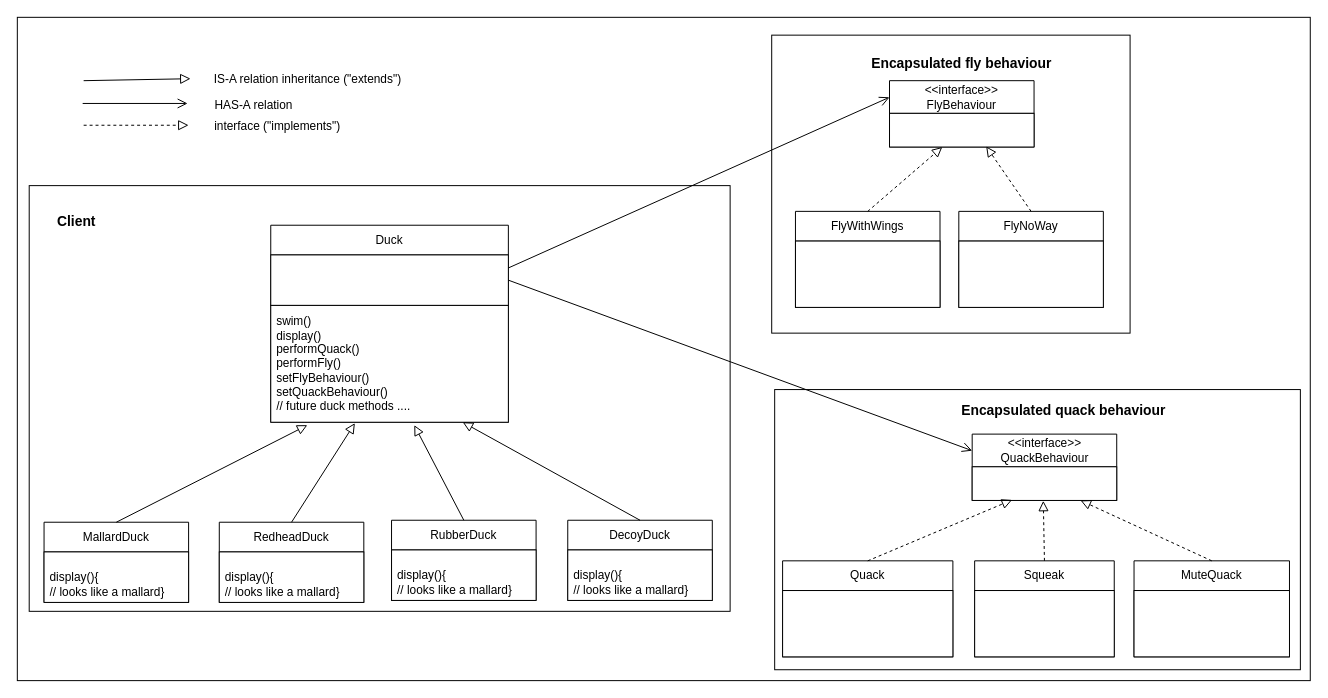
The diagram is 1328 pixels wide and 698 high, and some of its shapes have lost their labels. Here are the shapes that lost their labels. From the top down, the centre of each, then its label:
At (961,129): "fly()".
At (389,279): "FlyBehaviour flyBehaviour QuackBehaviour quackBehaviour".
At (867,273): "fly(){ // implements duck flying }".
At (1030,273): "fly(){ // do nothing - can't fly }".
At (1044,483): "quack()".
At (867,623): "quack(){ // implements duck quacking }".
At (1044,623): "quack(){ // rubber duckie squeak }".
At (1211,623): "quack(){ // do nothing - can't quack }".
